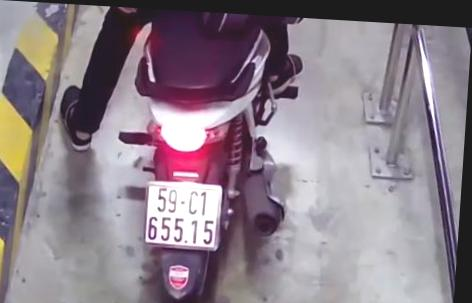License_Plate: (135, 176, 228, 258)
